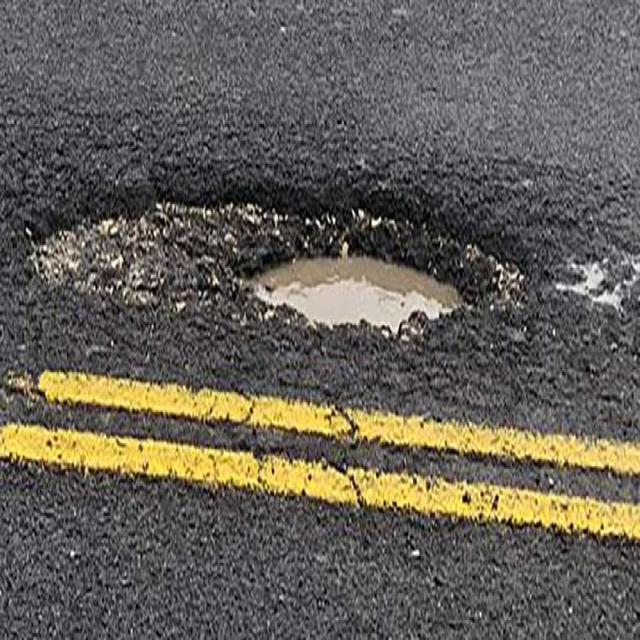major_pothole: (20, 175, 530, 341)
minor_pothole: (552, 234, 638, 328)
